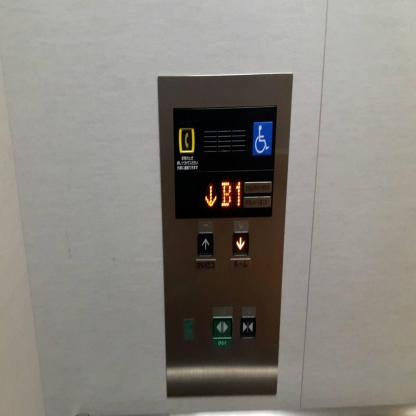CH: (252, 121, 272, 155)
call: (179, 127, 195, 153)
close: (238, 311, 258, 342)
down: (231, 229, 250, 258)
led: (196, 167, 243, 219)
open: (210, 312, 236, 342)
up: (196, 230, 214, 258)
